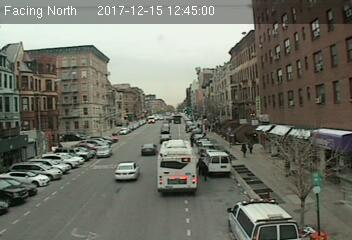bus: (156, 140, 196, 196)
car: (114, 162, 141, 180), (95, 145, 112, 157), (140, 144, 158, 155)
pedestrian: (281, 155, 296, 179), (239, 141, 248, 161), (201, 160, 209, 182), (248, 138, 254, 157)
police: (226, 196, 301, 240)
truck: (206, 151, 231, 176)
